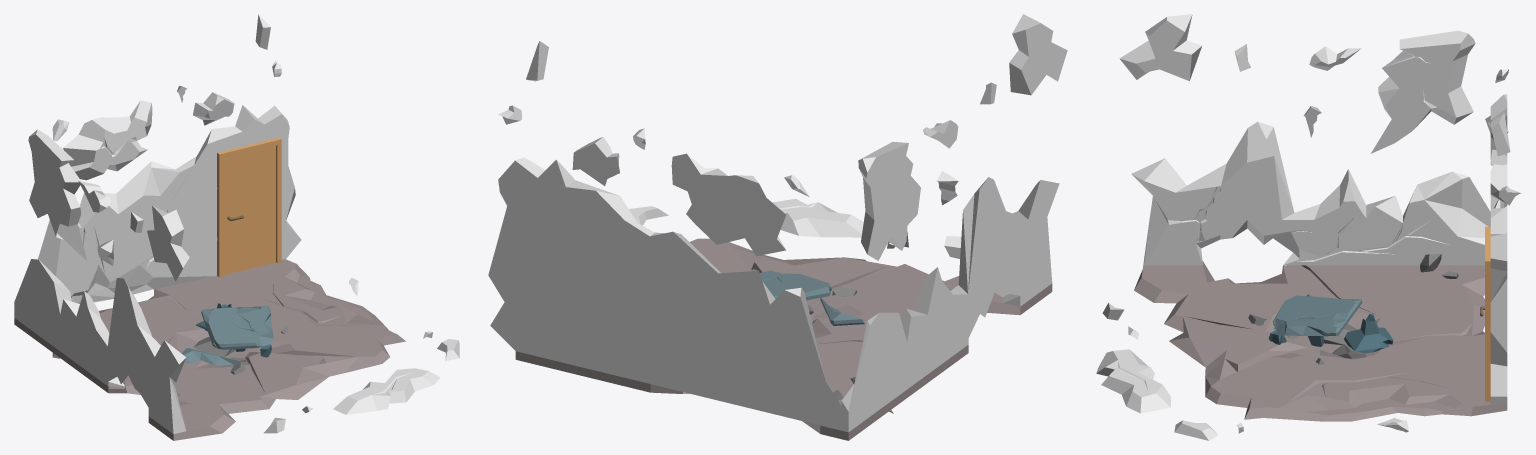
The model's file is secret room_2.fbx.
The picture shows the model from 3 angles, left to right: view 1: azimuth 30°, elevation 25°; view 2: azimuth 150°, elevation 25°; view 3: azimuth 270°, elevation 25°; orthographic projection. The views are drawn at different scales.
Parts seen in each view (by area): view 1: floor.002, wall_1.003, wall_1.002, door.001, wall_1.004, 立方体, table.001, floor.004, 立方体.004, 立方体.001, 立方体.006, table.005; view 2: wall_1.003, wall_1.002, floor.002, 立方体, wall_1.004, 立方体.004, floor.004, 立方体.001, table.001, 立方体.006, 立方体.010; view 3: floor.002, wall_1.002, wall_1.004, wall_1.003, 立方体.004, table.001, floor.004, table.003, door.001, 立方体, 立方体.006, floor.003 (+2 smaller).
Boxes of the visible parts, x1,y1,x2,y2 form: floor.002: [14, 259, 405, 440]; wall_1.003: [38, 105, 301, 303]; wall_1.002: [14, 259, 186, 434]; door.001: [217, 137, 281, 277]; wall_1.004: [28, 129, 86, 260]; 立方体: [63, 100, 152, 180]; table.001: [201, 305, 273, 351]; floor.004: [333, 368, 439, 414]; 立方体.004: [147, 205, 189, 281]; 立方体.001: [193, 92, 234, 125]; 立方体.006: [78, 180, 111, 212]; table.005: [181, 348, 239, 365]; wall_1.003: [488, 157, 848, 432]; wall_1.002: [841, 177, 1059, 431]; floor.002: [515, 238, 1052, 440]; 立方体: [671, 153, 785, 256]; wall_1.004: [858, 141, 920, 260]; 立方体.004: [1009, 14, 1067, 95]; floor.004: [772, 198, 863, 237]; 立方体.001: [572, 137, 619, 185]; table.001: [760, 270, 831, 300]; 立方体.006: [923, 120, 958, 148]; 立方体.010: [526, 41, 548, 81]; floor.002: [1134, 258, 1507, 421]; wall_1.002: [1131, 121, 1490, 265]; wall_1.004: [1371, 30, 1475, 153]; wall_1.003: [1490, 196, 1507, 405]; 立方体.004: [1119, 14, 1201, 80]; table.001: [1273, 295, 1362, 346]; floor.004: [1096, 349, 1170, 413]; table.003: [1344, 313, 1393, 353]; door.001: [1480, 226, 1490, 401]; 立方体: [1485, 94, 1507, 166]; 立方体.006: [1309, 46, 1361, 70]; floor.003: [1174, 420, 1218, 440].
Size of the model in its own units: 2469 by 2080 by 2521.
